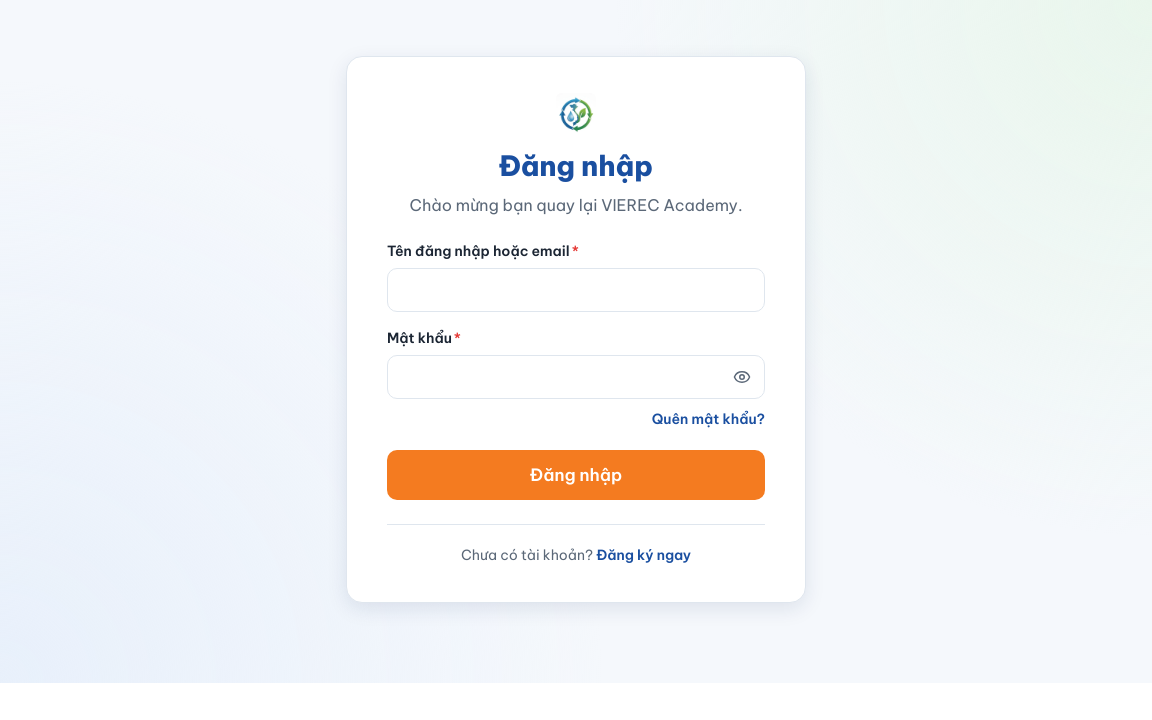
Test: LoginPage › shows required errors on empty submit
The width and height of the screenshot is (1152, 720).
Click the button "Đăng nhập" at (576, 475), box [387,450,765,500]
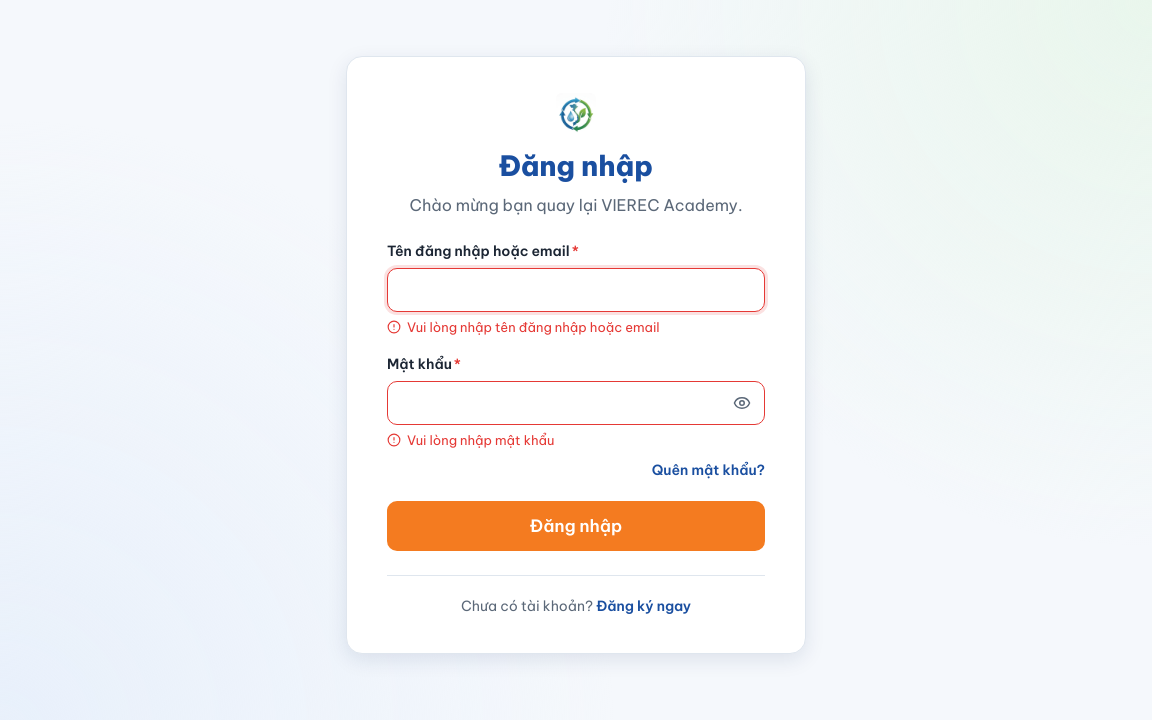
Expected: the text "Vui lòng nhập tên đăng nhập hoặc email" is shown, [387,319,660,335]
Expected: the text "Vui lòng nhập mật khẩu" is shown, [387,432,554,448]
